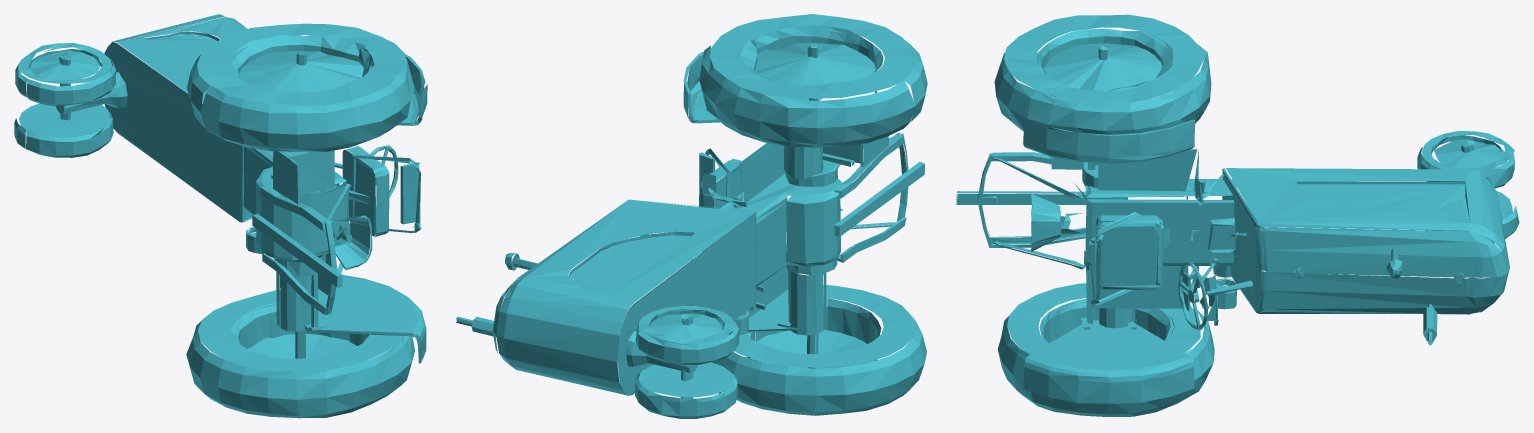
The picture shows the model from 3 angles, left to right: view 1: azimuth 30°, elevation 25°; view 2: azimuth 150°, elevation 25°; view 3: azimuth 270°, elevation 25°; orthographic projection.
Visible parts, largest first — view 1: Renderer Node; view 2: Renderer Node; view 3: Renderer Node.
Part boxes in pixels (left/top/right/bottom): Renderer Node: left=14, top=14, right=427, bottom=418; Renderer Node: left=456, top=14, right=927, bottom=418; Renderer Node: left=956, top=14, right=1519, bottom=416.
Size of the model in its own units: 1.12 by 1.23 by 1.86.
Materials: 1 (1 with a texture image).
